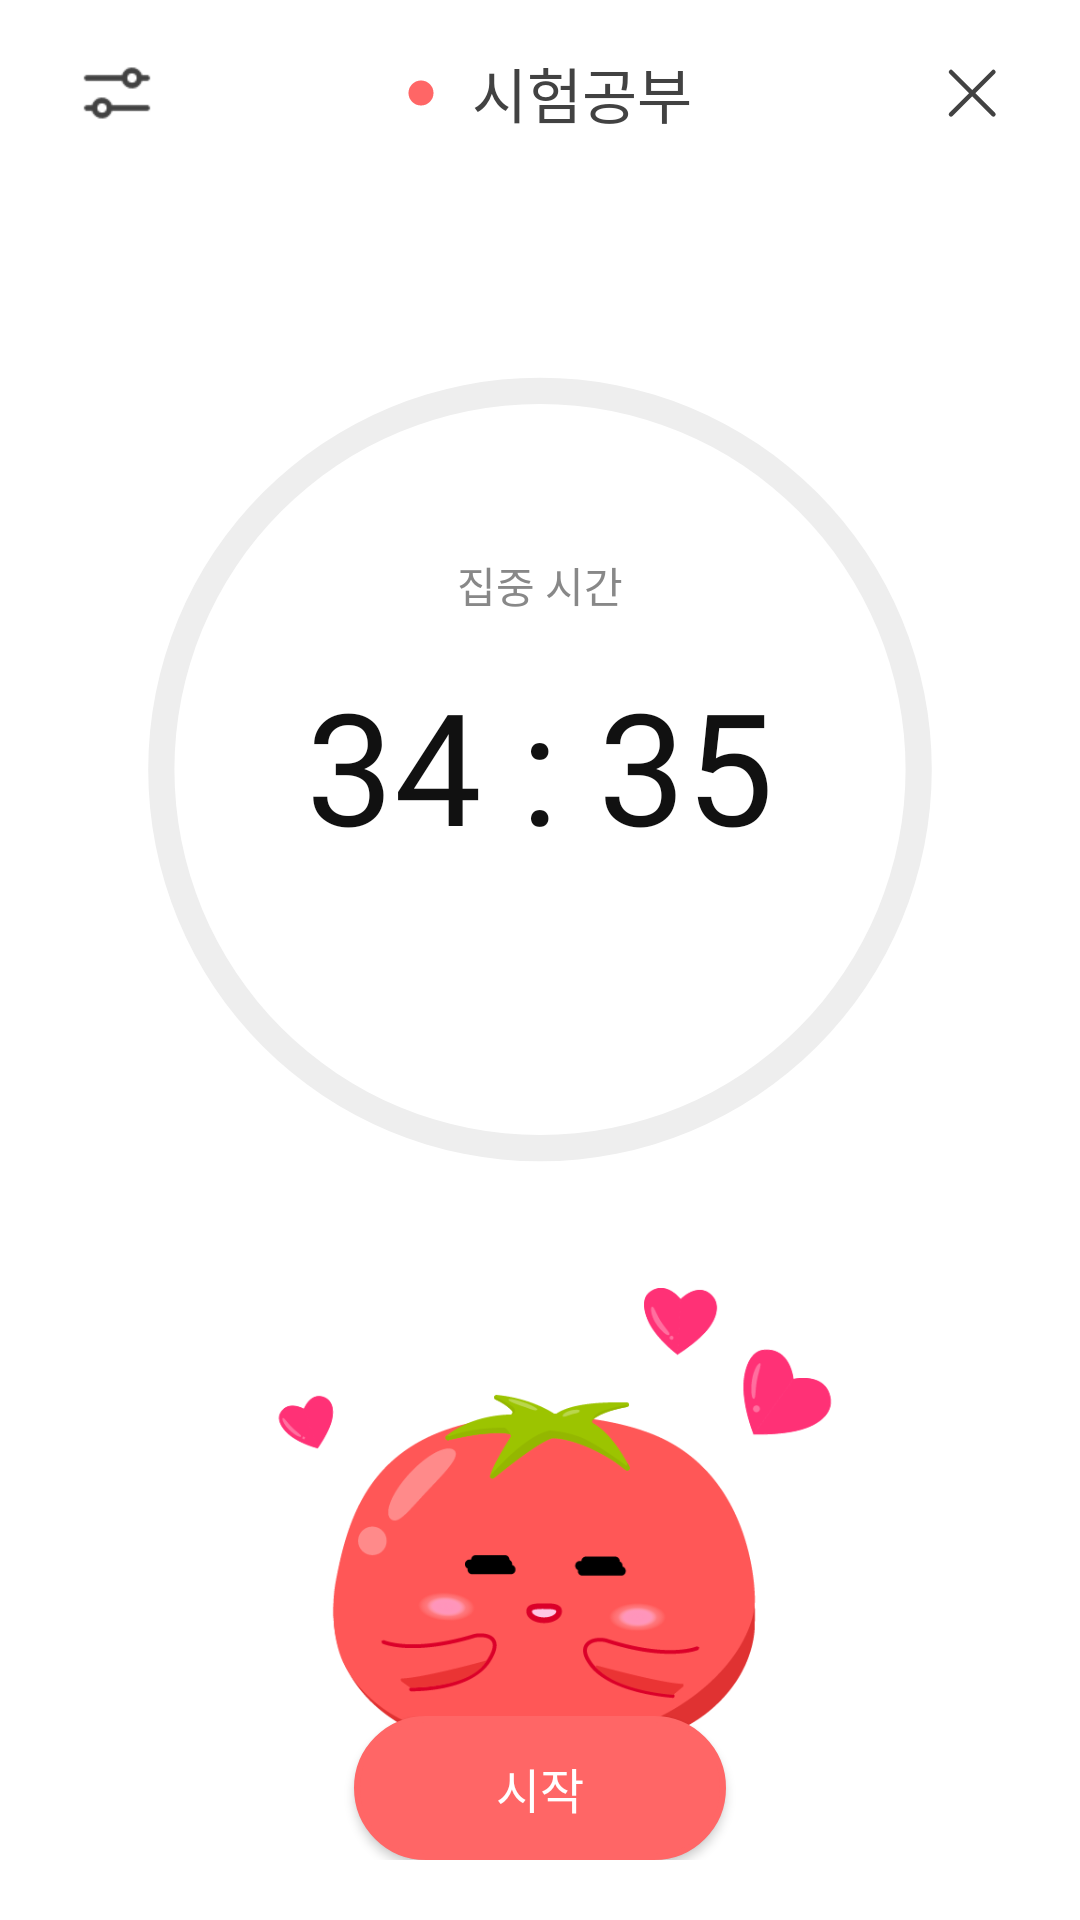

Named icons in this screenshot (1080w x 1920h) and their centers, (x=x, y=y):
setting adjust: (x=117, y=93)
